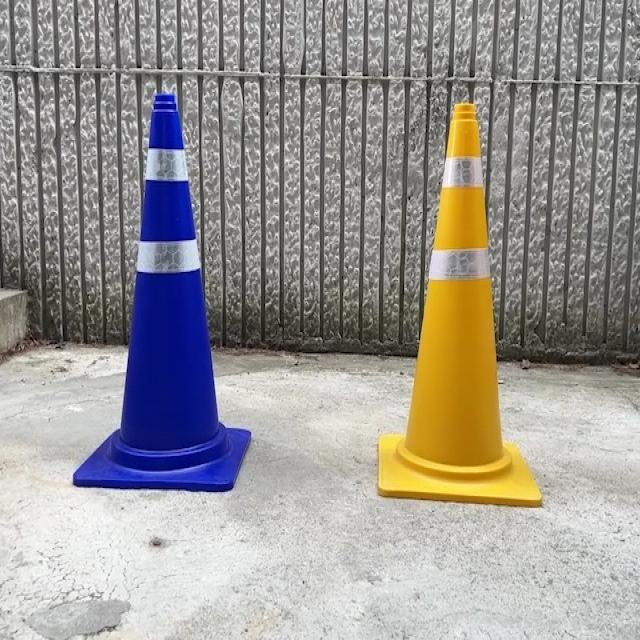b_rub: (73, 95, 250, 492)
y_rub: (378, 103, 543, 506)
